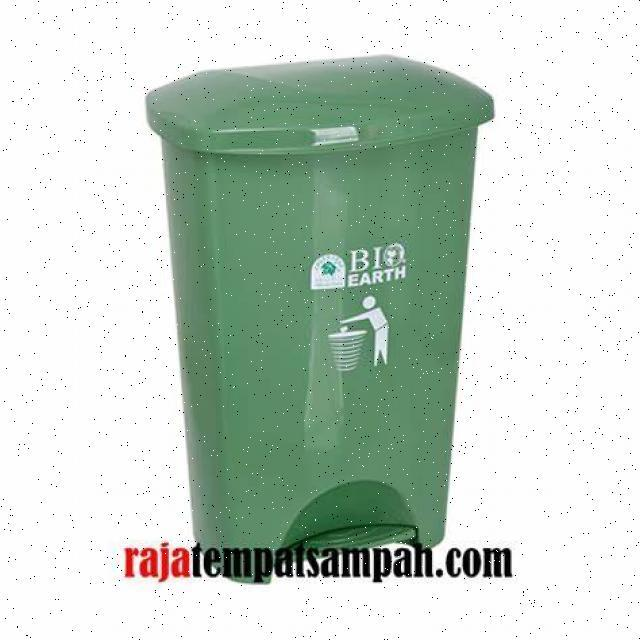garbage container: (154, 37, 484, 552)
